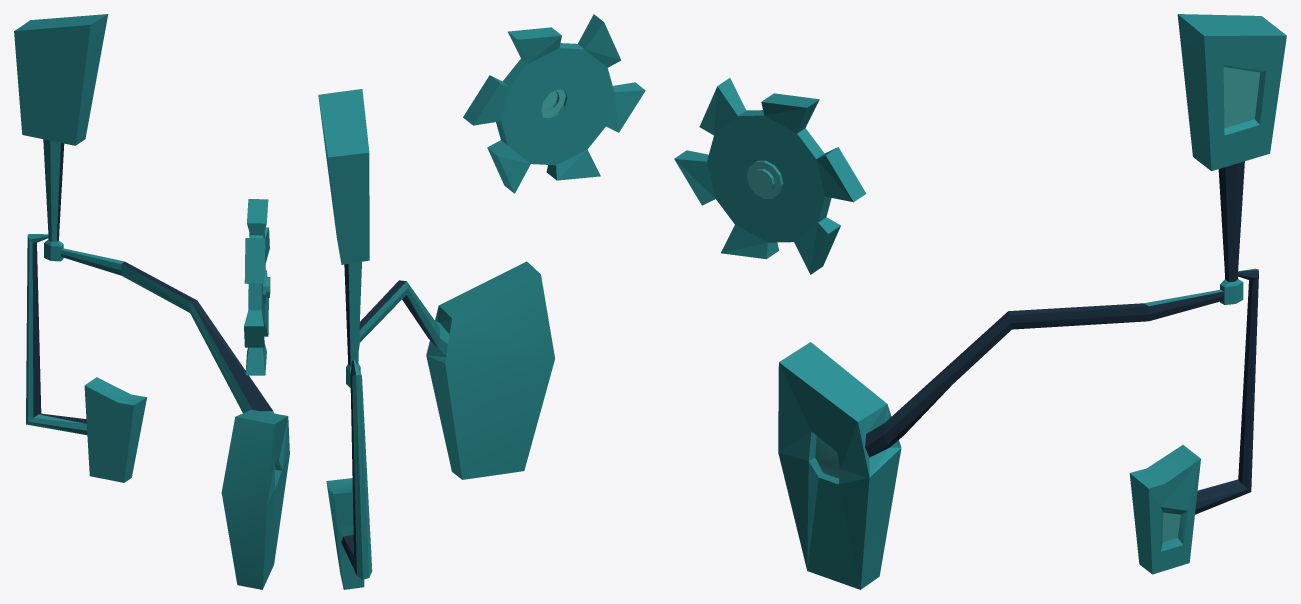
Rendered from room-3.FBX.
3 views of the same model, side by side, from view 1: azimuth 30°, elevation 25°; view 2: azimuth 150°, elevation 25°; view 3: azimuth 270°, elevation 25° (orthographic). The views are drawn at different scales.
Visible parts, largest first — view 1: Object042; view 2: Object042; view 3: Object042.
Part boxes in pixels (x1,y1,x2,y2): Object042: [14, 14, 289, 589]; Object042: [318, 14, 645, 589]; Object042: [674, 14, 1286, 589].
Bounding box in the file's own units: 2.72 × 9.68 × 9.84.
